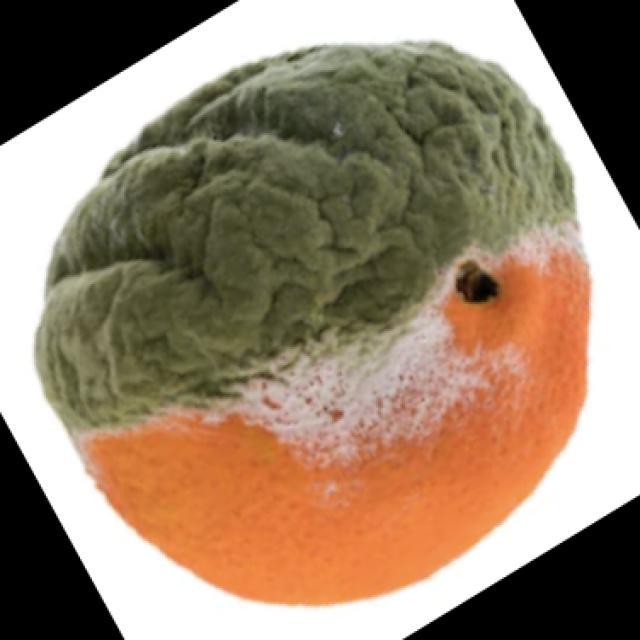sangat-busuk: (36, 41, 591, 603)
